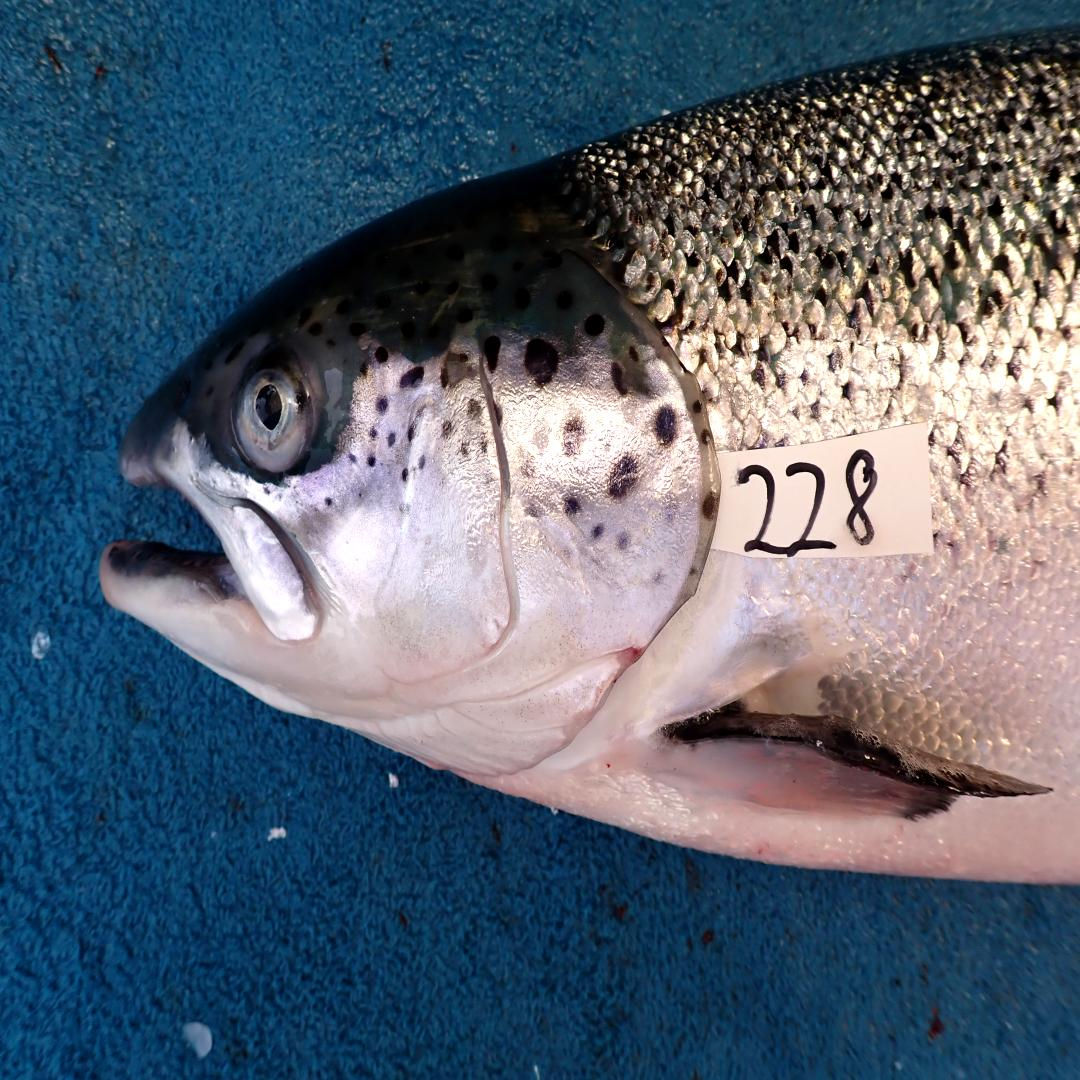roi: (316, 326, 716, 785)
